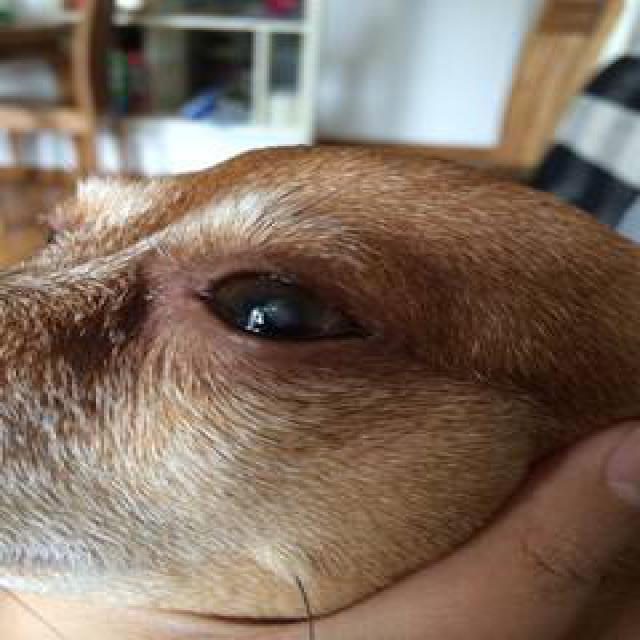eye: (190, 259, 372, 353)
